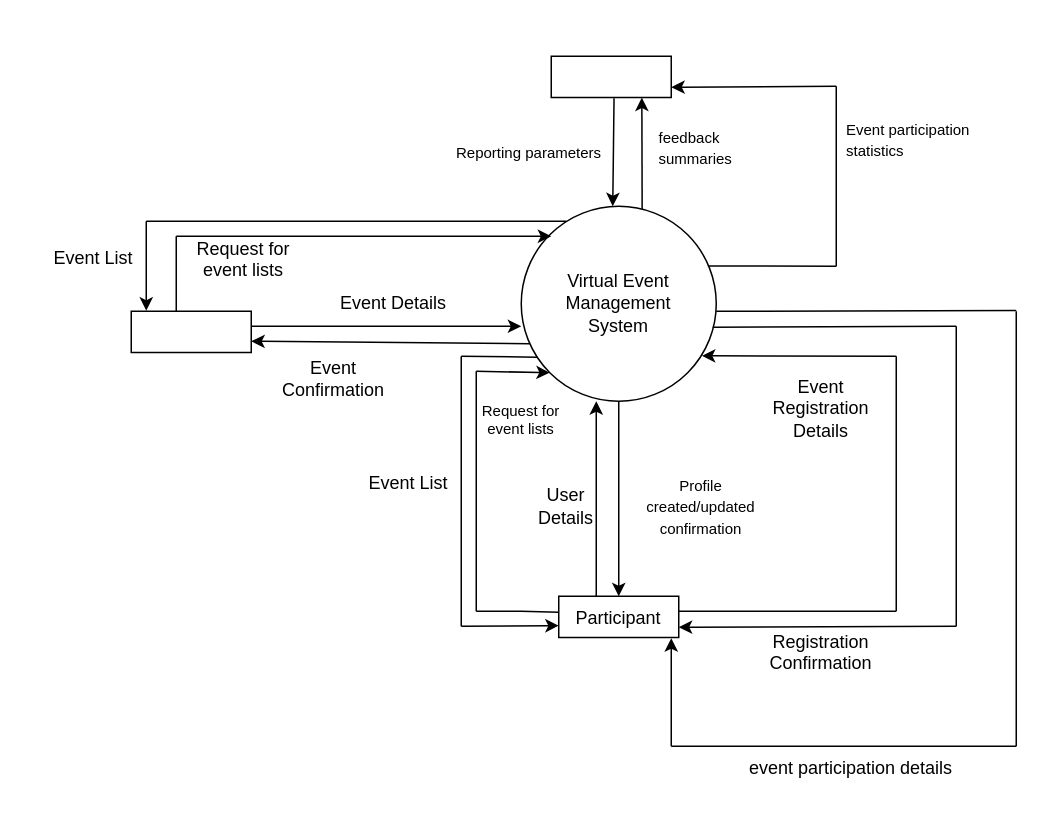
The diagram is 1044 pixels wide and 816 high, and some of its shapes have lost their labels. Here are the shapes that lost their labels. From the top down, the box of each, then its label:
(550, 55, 671, 98): Admin
(130, 310, 251, 352): Organizer
